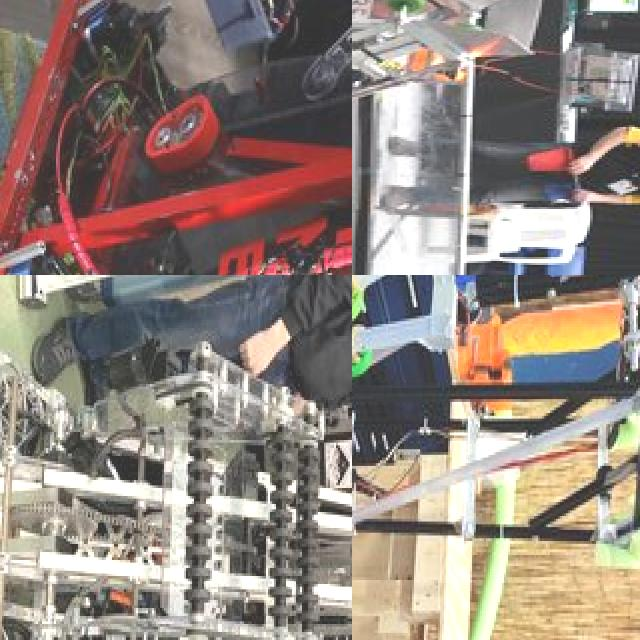FRC-Robots: (0, 321, 352, 640), (352, 275, 640, 640), (0, 10, 352, 275), (352, 0, 612, 200)
